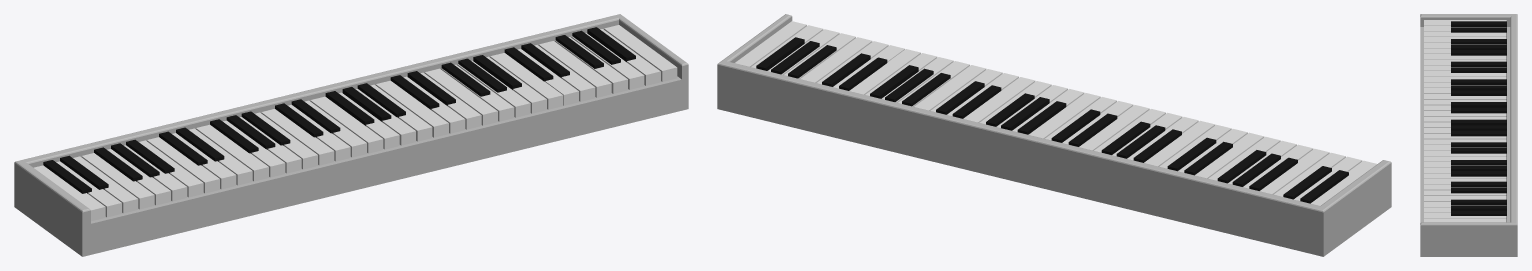
File: Midi Keyboard12.fbx
The picture shows the model from 3 angles, left to right: view 1: azimuth 30°, elevation 25°; view 2: azimuth 150°, elevation 25°; view 3: azimuth 270°, elevation 25°; orthographic projection. The views are drawn at different scales.
Parts seen in each view (by area): view 1: 49keysmidi.013; view 2: 49keysmidi.013; view 3: 49keysmidi.013.
Part boxes in pixels (bbox=[...]): 49keysmidi.013: bbox=[14, 14, 688, 256]; 49keysmidi.013: bbox=[717, 14, 1391, 256]; 49keysmidi.013: bbox=[1420, 14, 1517, 256].
Size of the model in its own units: 86.17 by 6.23 by 16.79.
